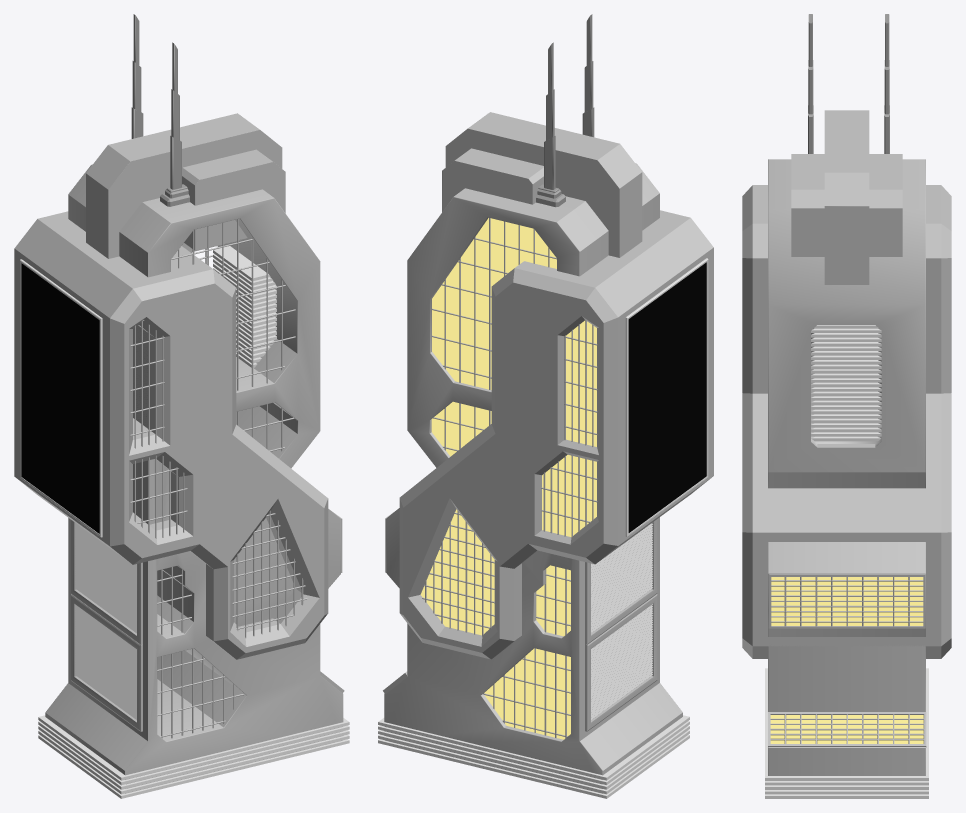
3 views of the same model, side by side, from view 1: azimuth 30°, elevation 25°; view 2: azimuth 150°, elevation 25°; view 3: azimuth 270°, elevation 25° (orthographic).
Parts seen in each view (by area): view 1: ExtrudeSide_2_Base_01_0, Boole_Base_01_0, Display_2_Poster_01_0, TopFigure_02_2_Base_01_0, TopFigure_01_2_Base_01_0, SideWindow_01_instance_5_2_Base_01_0, MB___Cube_2_instance_2_2_Base_01_0, SideWindow_01_instance_3_2_Base_01_0, SideWindow_01_instance_2_2_Base_01_0, Frame_4_2_Base_01_0, Frame_2_Base_02_0, Cube_0_4_5_Base_02_0 (+8 smaller); view 2: ExtrudeSide_2_Base_01_0, Boole_Base_01_0, Display_2_Poster_01_0, MB___Cube_2_instance_2_Windows_0, TopFigure_02_2_Base_01_0, SideWindow_01_instance_2_Windows_0, SideWindow_01_instance_6_Windows_0, SideWindow_01_instance_4_Windows_0, TopFigure_01_2_Base_01_0, SideWindow_01_instance_5_Base_01_0, MB___Cube_2_instance_Base_01_0, SideWindow_01_instance_3_Base_01_0 (+11 smaller); view 3: Boole_Base_01_0, ExtrudeSide_2_Base_01_0, TopFigure_02_2_Base_01_0, TopFigure_01_2_Base_01_0, Central_Grid_4_Windows_0, Central_Grid_3_Base_01_0, Central_Grid_2_Windows_0, Central_Grid_Base_01_0, Cube_0_4_5_Base_02_0, CentralFrame_4_Base_01_0, CentralFrame_2_Base_01_0, Cube_0_4_4_Base_02_0 (+14 smaller).
Part boxes in pixels (<box>): ExtrudeSide_2_Base_01_0: <box>14,211,328,659</box>; Boole_Base_01_0: <box>45,164,343,793</box>; Display_2_Poster_01_0: <box>21,263,99,533</box>; TopFigure_02_2_Base_01_0: <box>86,113,282,258</box>; TopFigure_01_2_Base_01_0: <box>182,149,285,250</box>; SideWindow_01_instance_5_2_Base_01_0: <box>130,320,187,538</box>; MB___Cube_2_instance_2_2_Base_01_0: <box>171,219,295,451</box>; SideWindow_01_instance_3_2_Base_01_0: <box>232,510,307,638</box>; SideWindow_01_instance_2_2_Base_01_0: <box>157,567,244,738</box>; Frame_4_2_Base_01_0: <box>71,594,142,731</box>; Frame_2_Base_02_0: <box>20,259,102,537</box>; Cube_0_4_5_Base_02_0: <box>38,715,349,780</box>; ExtrudeSide_2_Base_01_0: <box>399,210,713,659</box>; Boole_Base_01_0: <box>384,163,682,793</box>; Display_2_Poster_01_0: <box>628,262,706,532</box>; MB___Cube_2_instance_2_Windows_0: <box>431,218,556,456</box>; TopFigure_02_2_Base_01_0: <box>445,112,642,257</box>; SideWindow_01_instance_2_Windows_0: <box>484,565,570,739</box>; SideWindow_01_instance_6_Windows_0: <box>542,320,596,537</box>; SideWindow_01_instance_4_Windows_0: <box>420,509,494,635</box>; TopFigure_01_2_Base_01_0: <box>442,148,543,211</box>; SideWindow_01_instance_5_Base_01_0: <box>541,320,597,537</box>; MB___Cube_2_instance_Base_01_0: <box>432,218,556,451</box>; SideWindow_01_instance_3_Base_01_0: <box>422,511,494,636</box>; Boole_Base_01_0: <box>768,159,925,775</box>; ExtrudeSide_2_Base_01_0: <box>742,185,951,658</box>; TopFigure_02_2_Base_01_0: <box>824,110,869,284</box>; TopFigure_01_2_Base_01_0: <box>791,154,902,256</box>; Central_Grid_4_Windows_0: <box>771,577,923,625</box>; Central_Grid_3_Base_01_0: <box>771,577,923,626</box>; Central_Grid_2_Windows_0: <box>770,715,923,743</box>; Central_Grid_Base_01_0: <box>770,714,924,743</box>; Cube_0_4_5_Base_02_0: <box>765,668,928,780</box>; CentralFrame_4_Base_01_0: <box>769,574,925,628</box>; CentralFrame_2_Base_01_0: <box>768,712,926,747</box>; Cube_0_4_4_Base_02_0: <box>765,781,928,785</box>.
Size of the model in its own units: 36.86 by 102 by 27.33.
